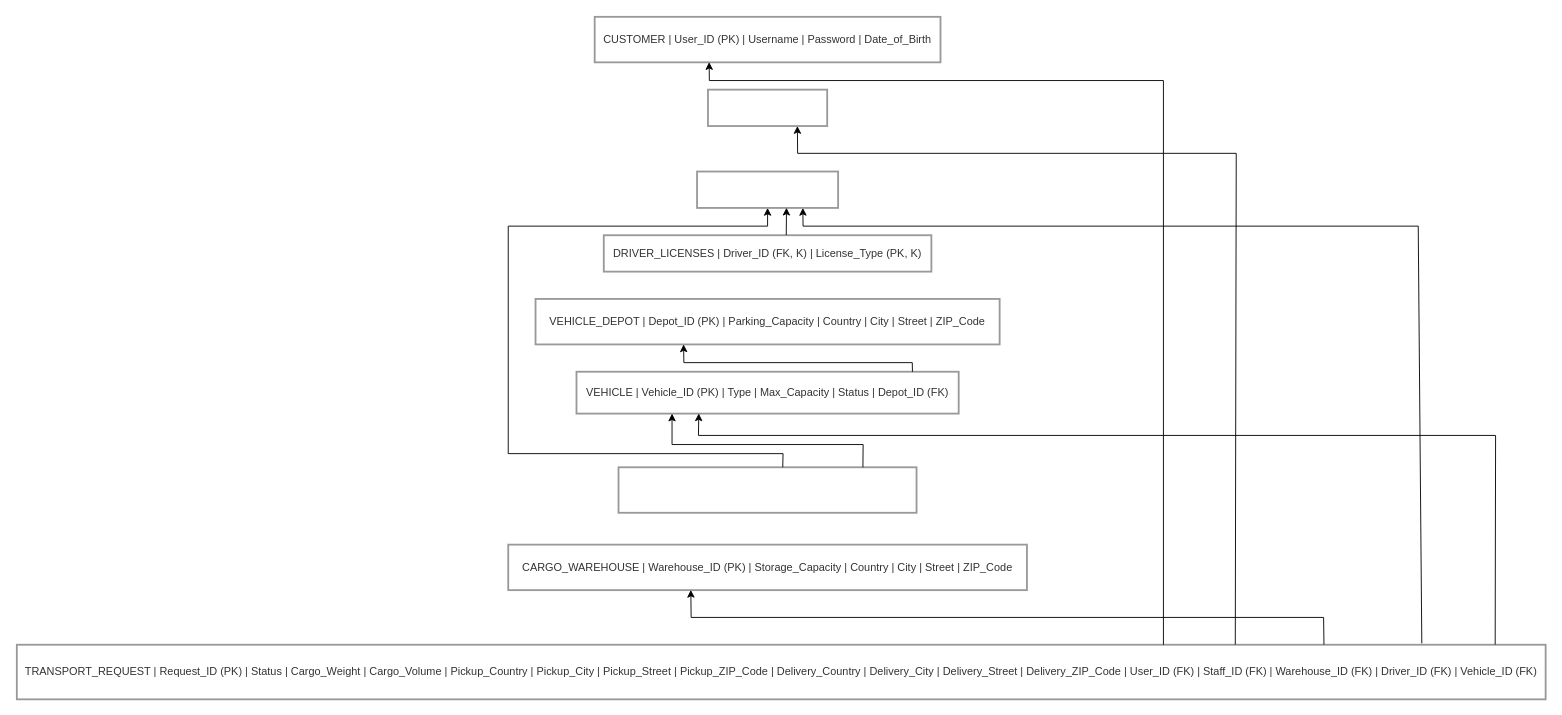
This 1562x715 diagram has some shape labels left out. Here are the shapes that lost their labels. From the top down, the centre of each, then its label:
point (767, 107): STAFF | Staff_ID (PK)
point (767, 189): DRIVER | Driver_ID (PK)
point (767, 489): DRIVER_VEHICLE | Driver_ID (FK, K) | Vehicle_ID (FK, K)
